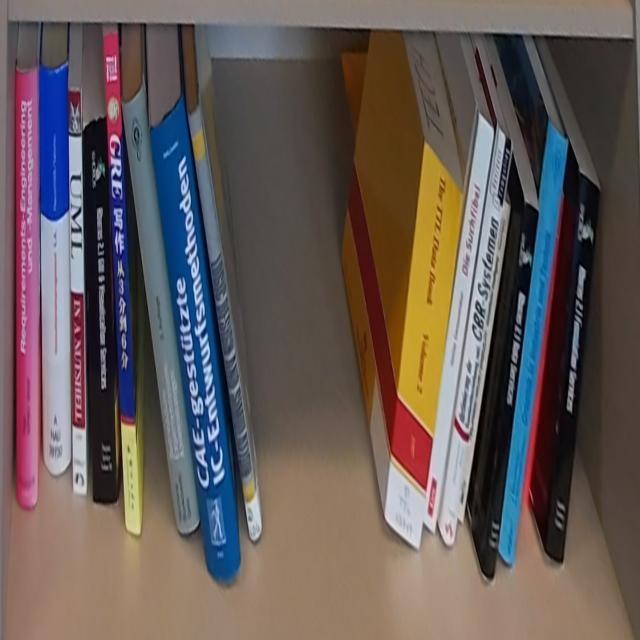Book Spine: (151, 93, 240, 589), (121, 84, 202, 535), (186, 99, 262, 546), (385, 139, 463, 559), (439, 125, 513, 547), (499, 116, 568, 566), (425, 110, 494, 540), (481, 198, 540, 582), (546, 171, 600, 570), (102, 34, 142, 533), (458, 197, 512, 527), (82, 115, 118, 507), (39, 61, 71, 482), (15, 60, 40, 512), (67, 90, 87, 495)
